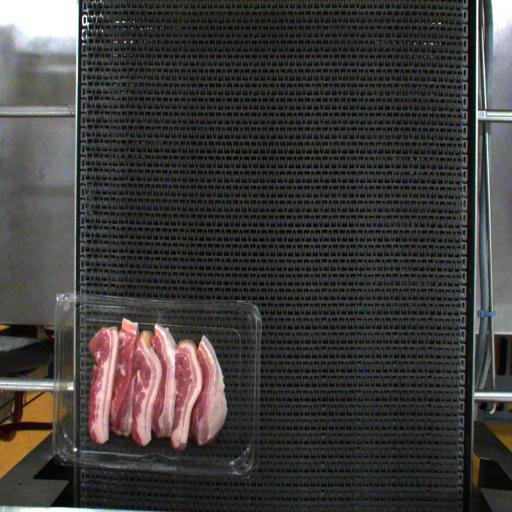packaging-error: (149, 296, 168, 336)
twisted-meat: (109, 320, 140, 434)
